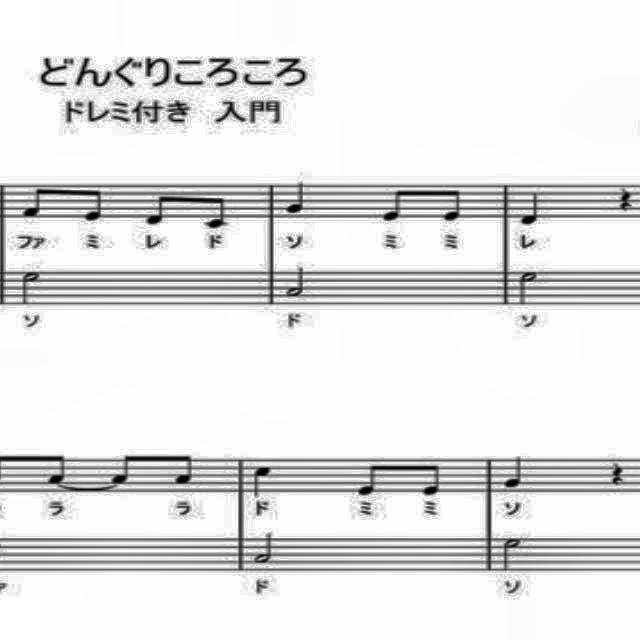Eighth-note: (380, 182, 416, 225), (352, 455, 384, 499), (75, 184, 108, 226), (142, 188, 174, 228), (200, 192, 232, 232), (418, 460, 450, 500), (437, 183, 468, 224), (20, 180, 48, 220), (110, 446, 138, 486), (46, 448, 72, 488), (170, 452, 198, 488)
Half-note: (510, 267, 542, 305), (15, 267, 45, 305), (500, 532, 524, 578), (251, 530, 281, 566), (284, 265, 312, 303)
Quarter-note: (282, 176, 310, 218), (248, 466, 280, 502), (518, 190, 546, 230), (502, 454, 530, 491)
Quarter-rest: (616, 184, 636, 213), (606, 460, 626, 488)
